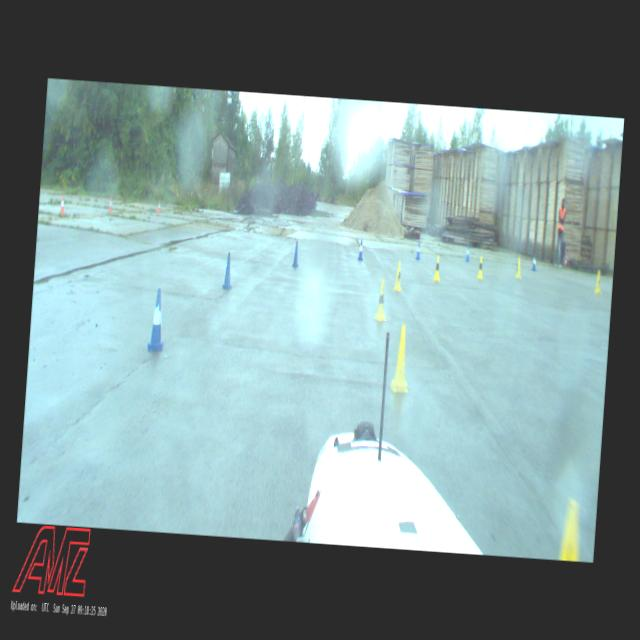blue_cone: (146, 287, 166, 352), (222, 252, 233, 290), (292, 240, 300, 267), (357, 238, 364, 262), (414, 242, 421, 260), (530, 251, 536, 272), (464, 243, 471, 260)
orange_cone: (60, 194, 65, 214), (108, 196, 112, 212), (157, 198, 161, 214)
yellow_cone: (556, 498, 583, 559), (390, 322, 412, 396), (374, 277, 388, 322), (393, 258, 404, 294), (433, 254, 441, 282), (476, 255, 484, 280), (594, 270, 602, 294), (515, 256, 522, 278)
